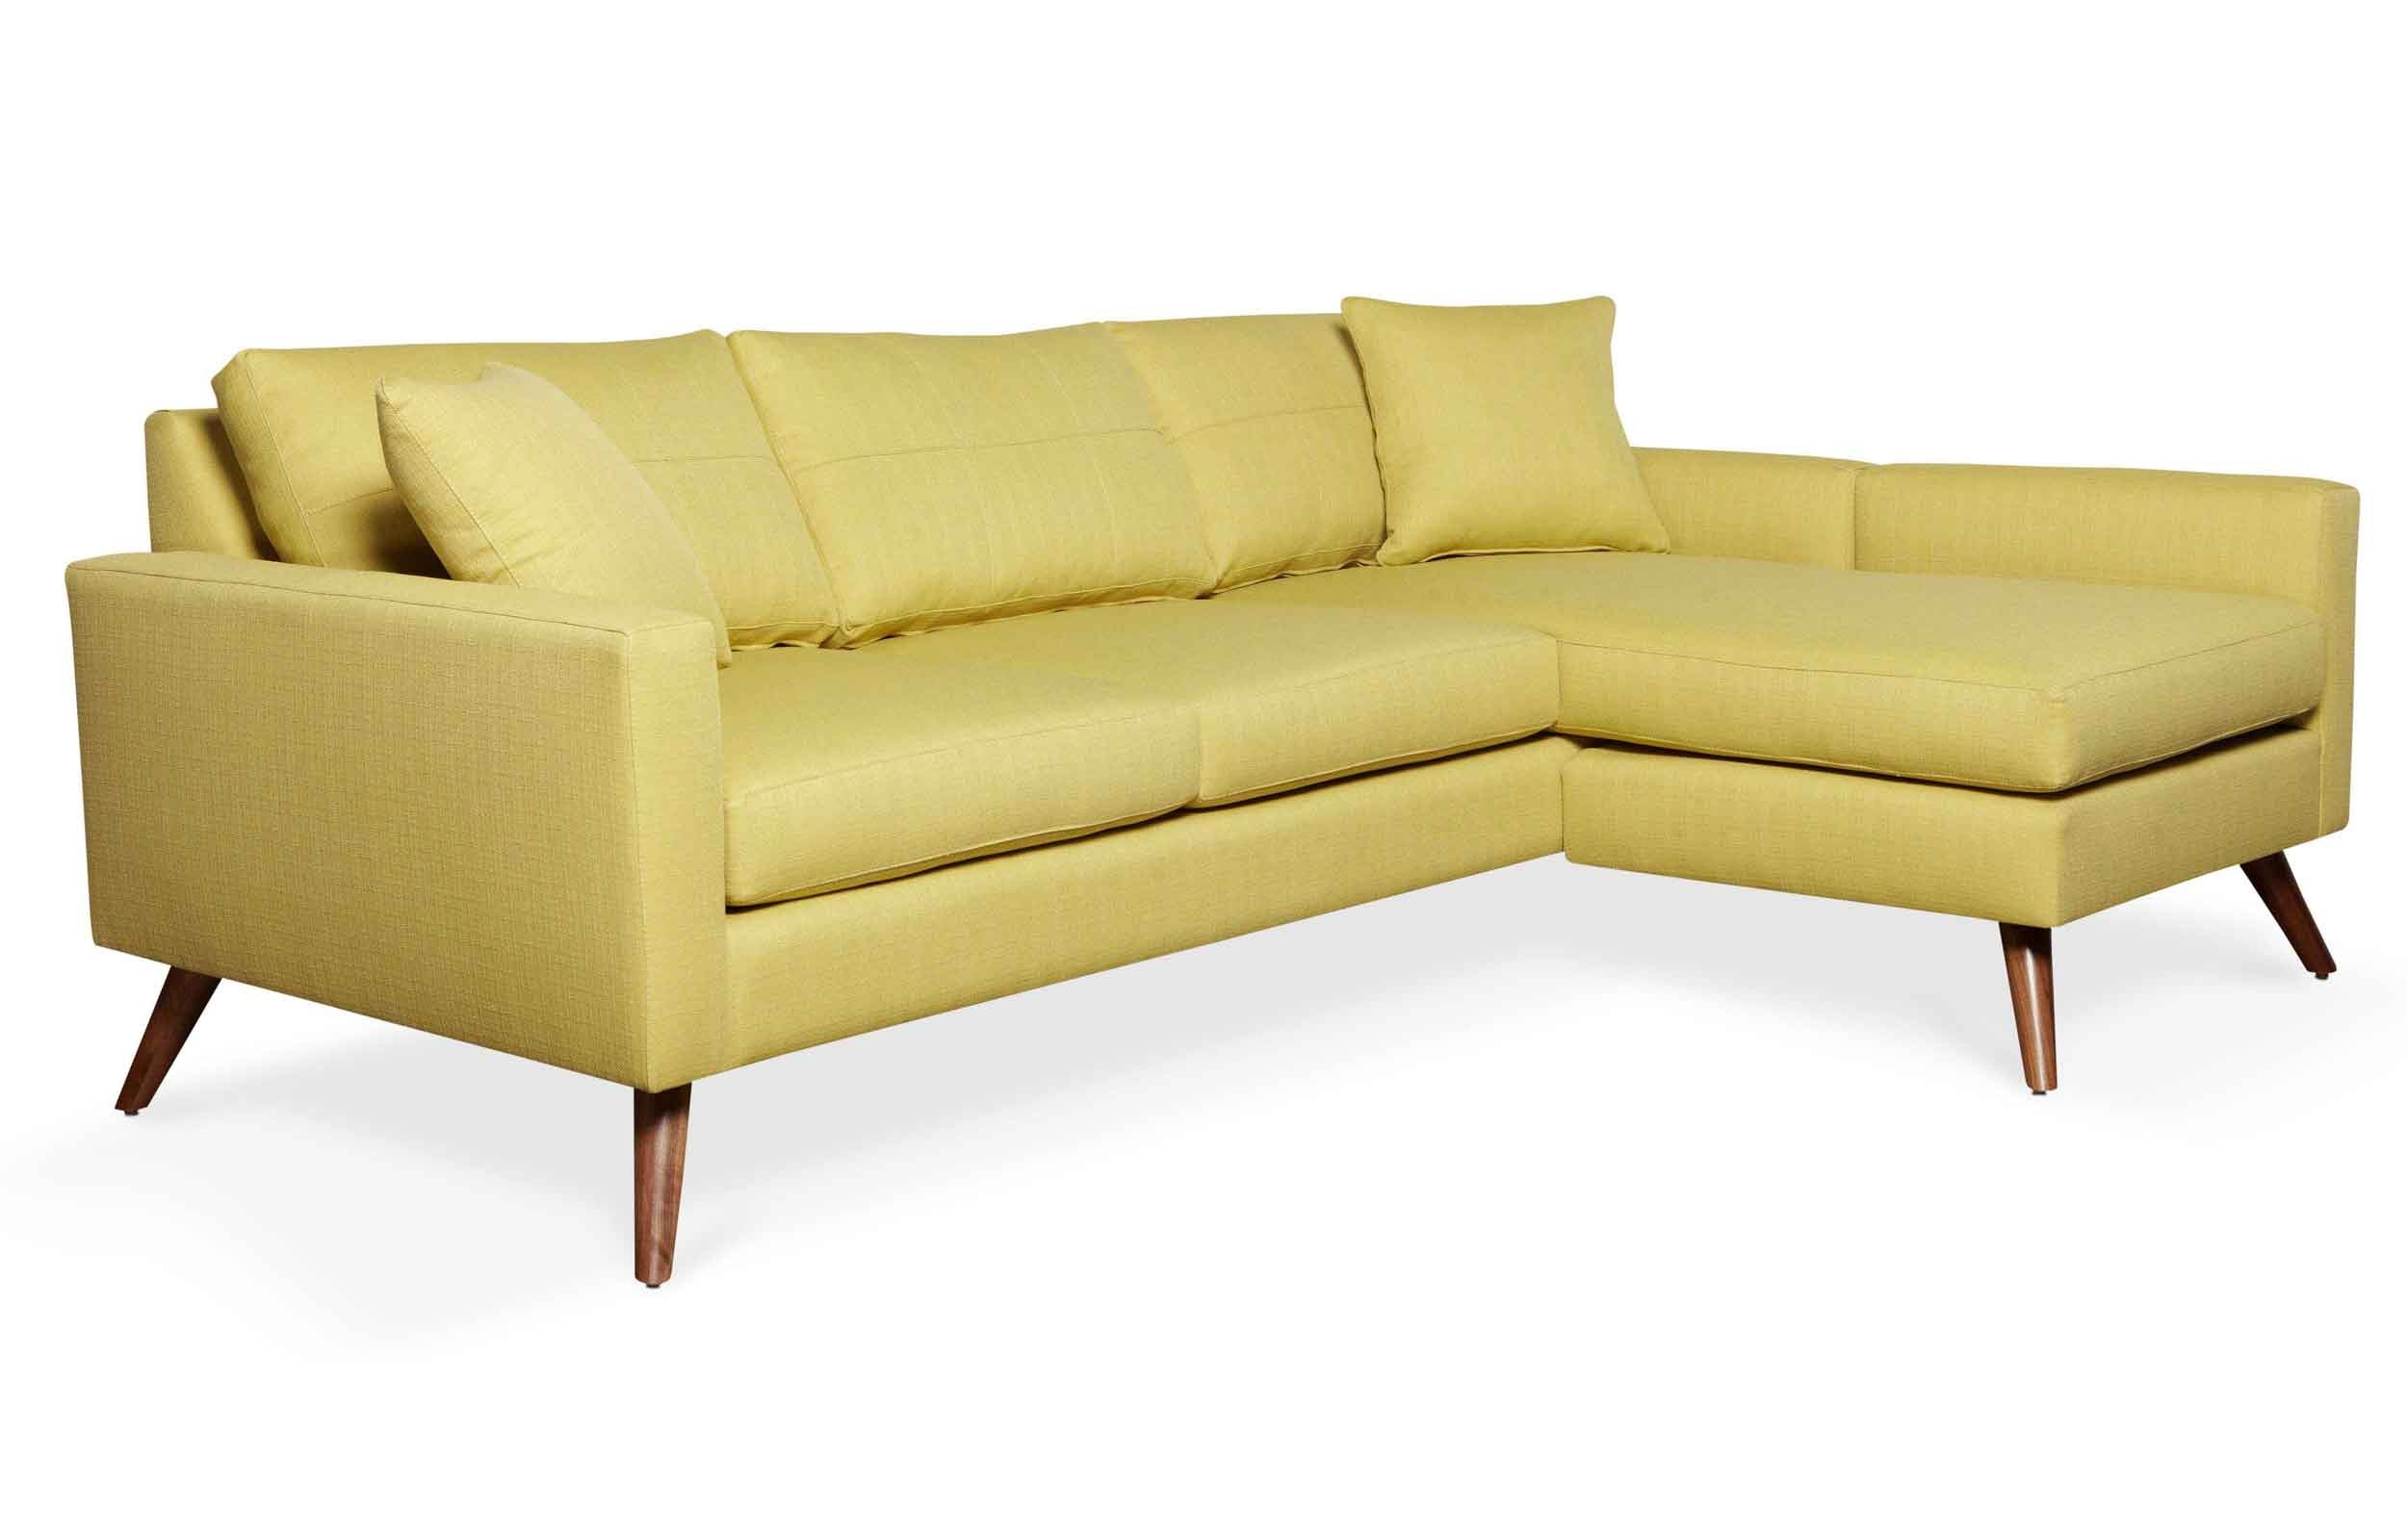chairs: (61, 281, 2353, 1301)
